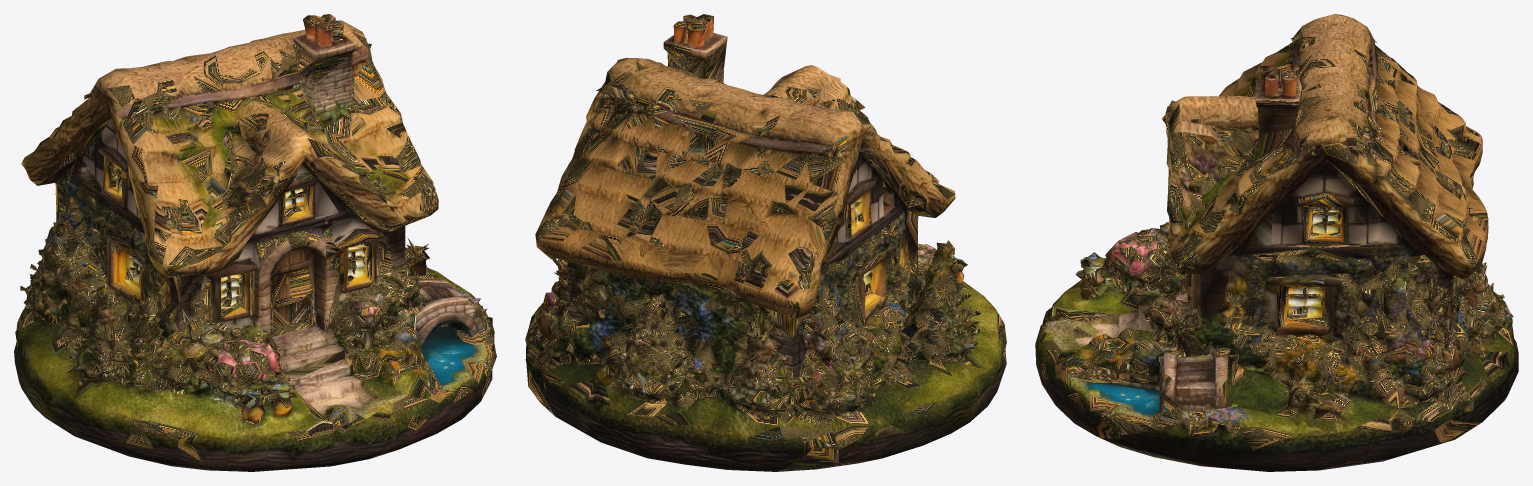
File: Enchanted_Thatch_Cott.glb
The picture shows the model from 3 angles, left to right: view 1: azimuth 30°, elevation 25°; view 2: azimuth 150°, elevation 25°; view 3: azimuth 270°, elevation 25°; orthographic projection.
Visible parts, largest first — view 1: Enchanted_Thatch_Cott; view 2: Enchanted_Thatch_Cott; view 3: Enchanted_Thatch_Cott.
Part boxes in pixels (x1,y1,x2,y2): Enchanted_Thatch_Cott: (14,14,496,471); Enchanted_Thatch_Cott: (525,14,1006,471); Enchanted_Thatch_Cott: (1035,14,1518,471).
Size of the model in its own units: 1.89 by 1.46 by 1.89.
1 material, 1 textured.
